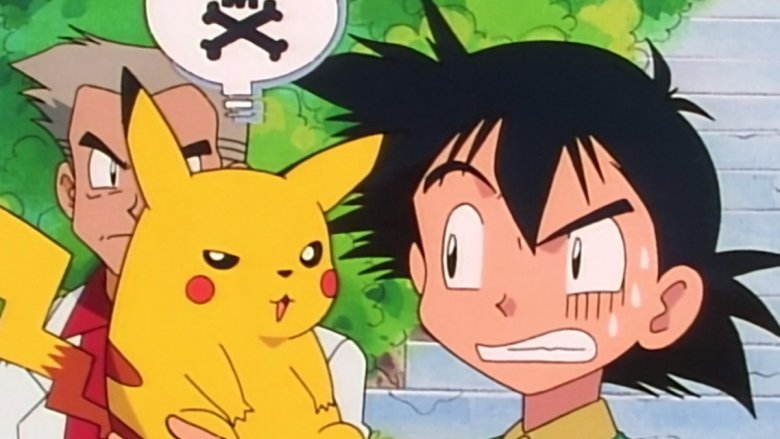pikachu: (9, 99, 413, 439)
